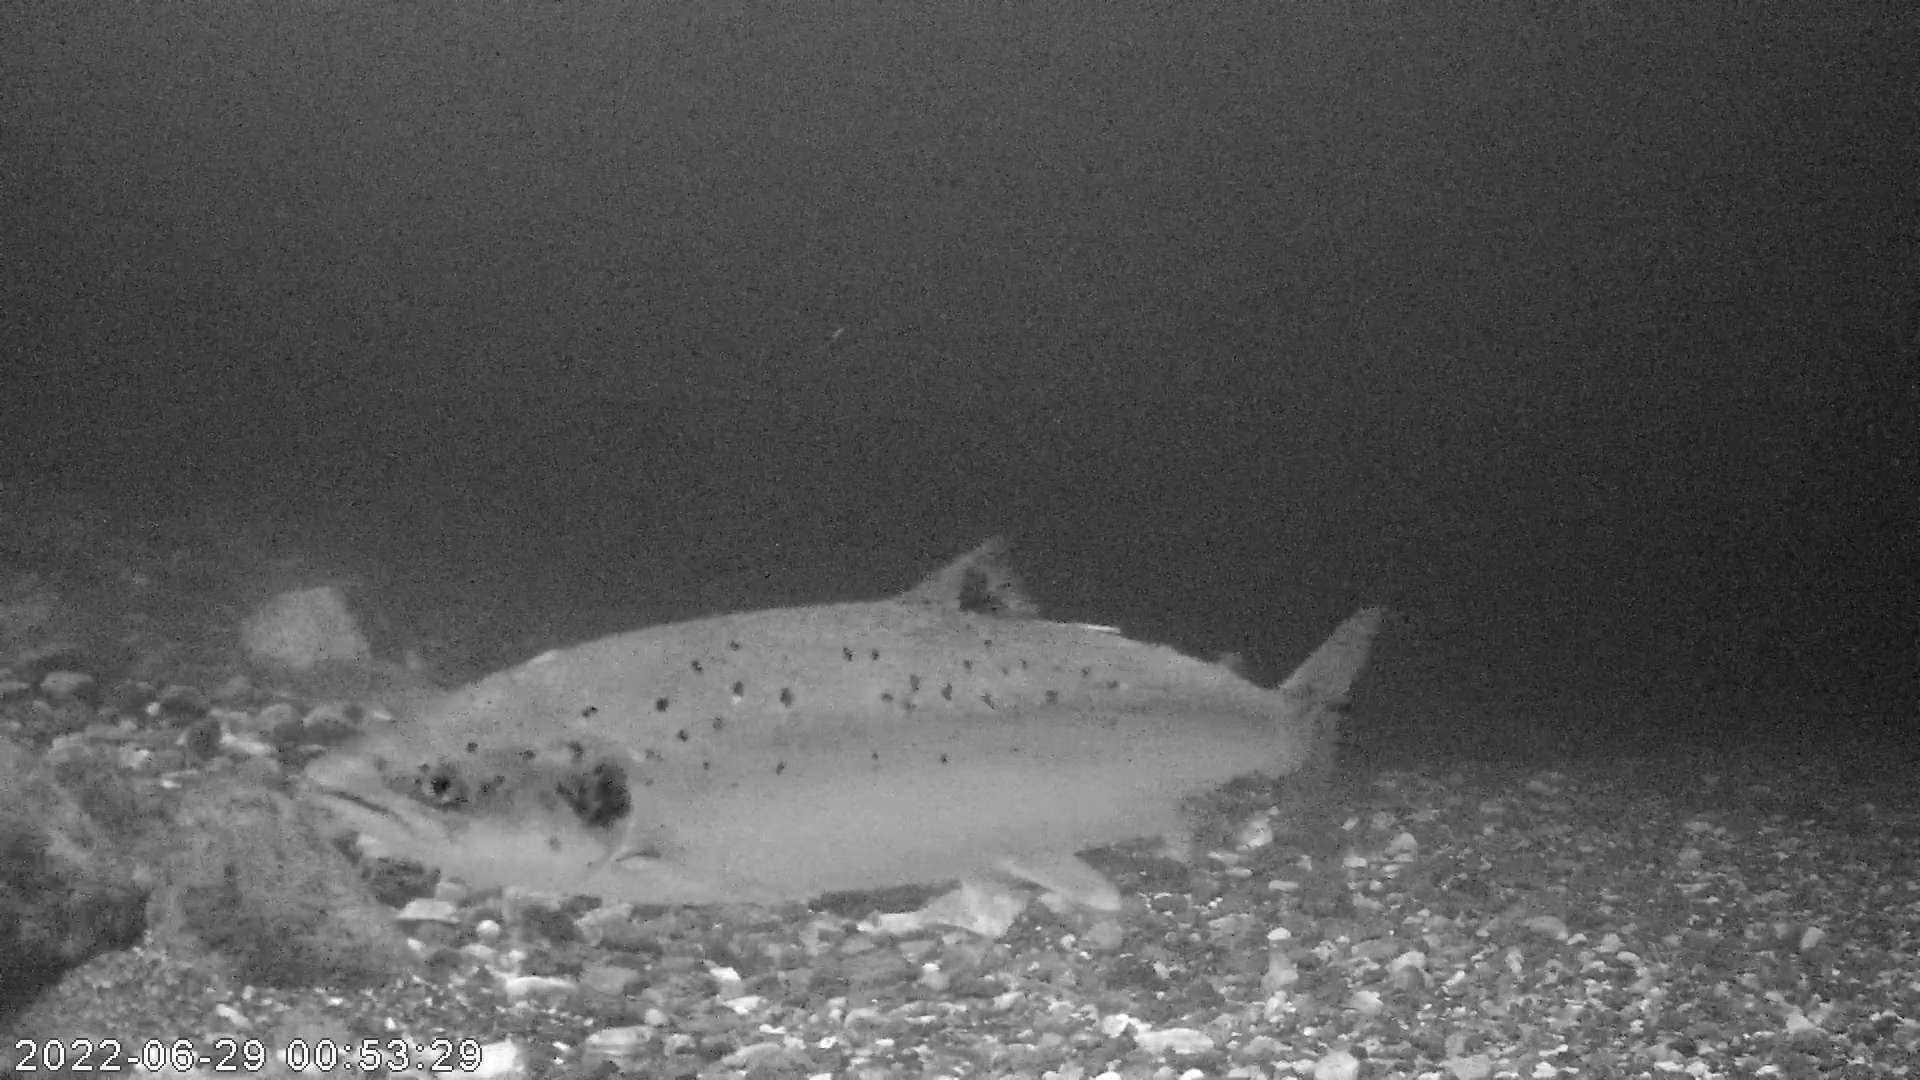salmon: (293, 524, 1385, 919)
